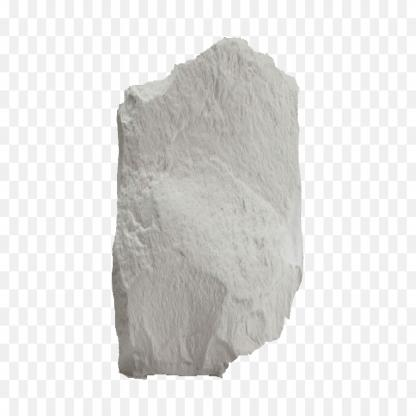Sedimentary_Chalk: (107, 30, 310, 380)
